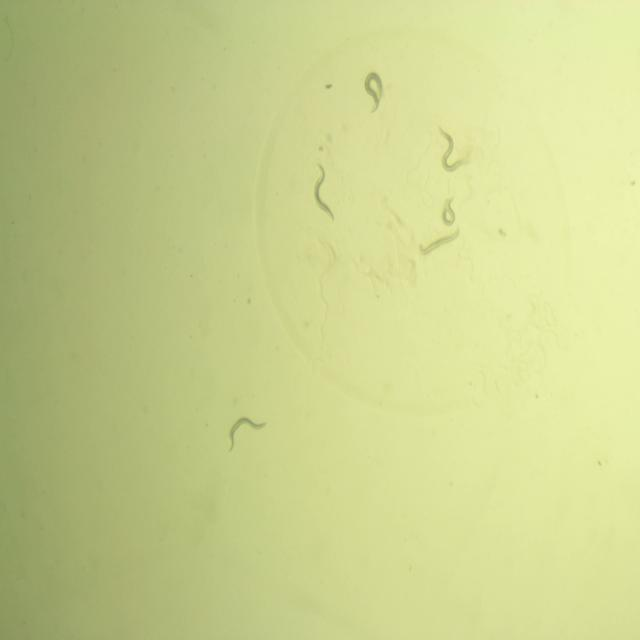worm: (225, 414, 268, 461), (308, 158, 338, 225), (433, 123, 468, 176), (415, 226, 461, 260), (361, 66, 386, 119), (440, 192, 459, 231)
